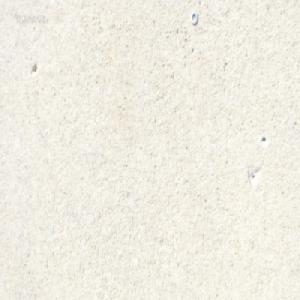Washer: (190, 10, 197, 24)
